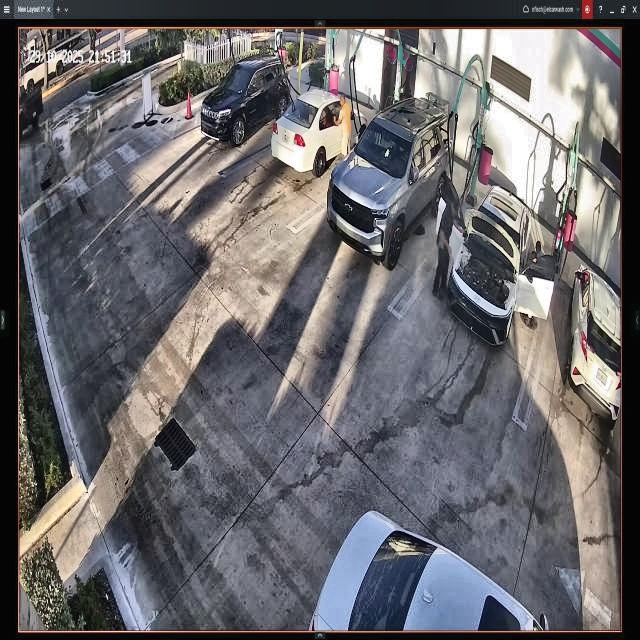Car: (329, 100, 454, 265), (446, 180, 542, 346), (201, 51, 292, 150), (272, 87, 368, 171)
